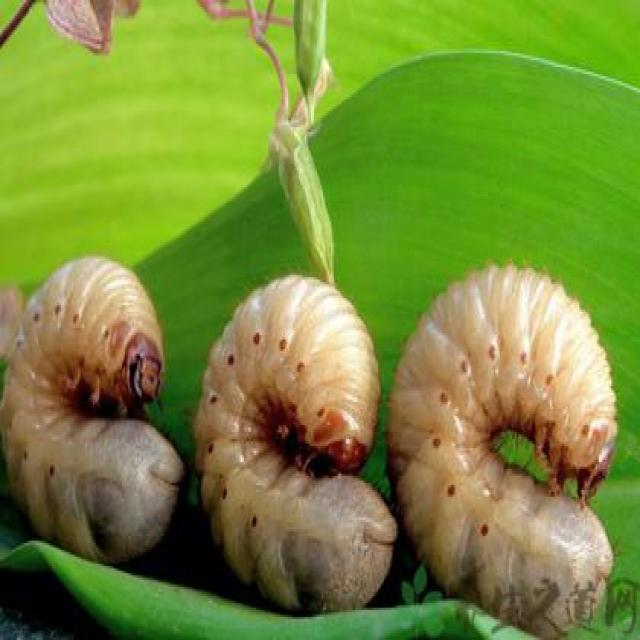Grub-Adult-: (388, 260, 617, 627), (185, 265, 399, 620), (0, 246, 183, 563)
